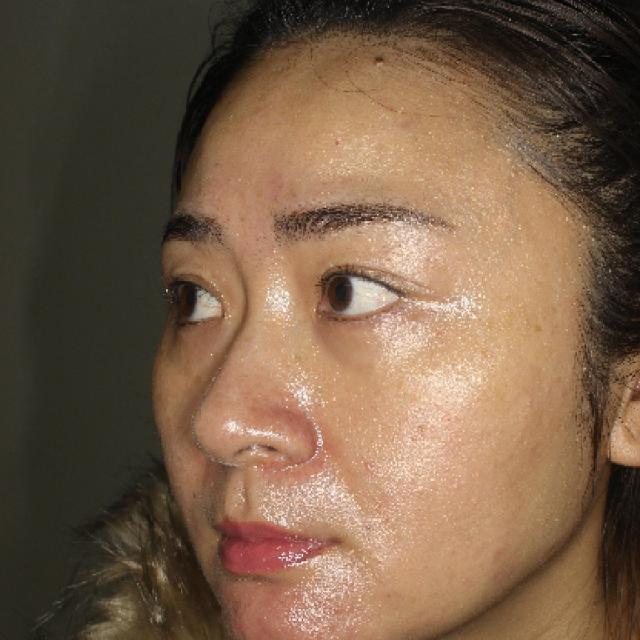Blackheads: (368, 48, 392, 74)
Whiteheads: (503, 163, 528, 185)
